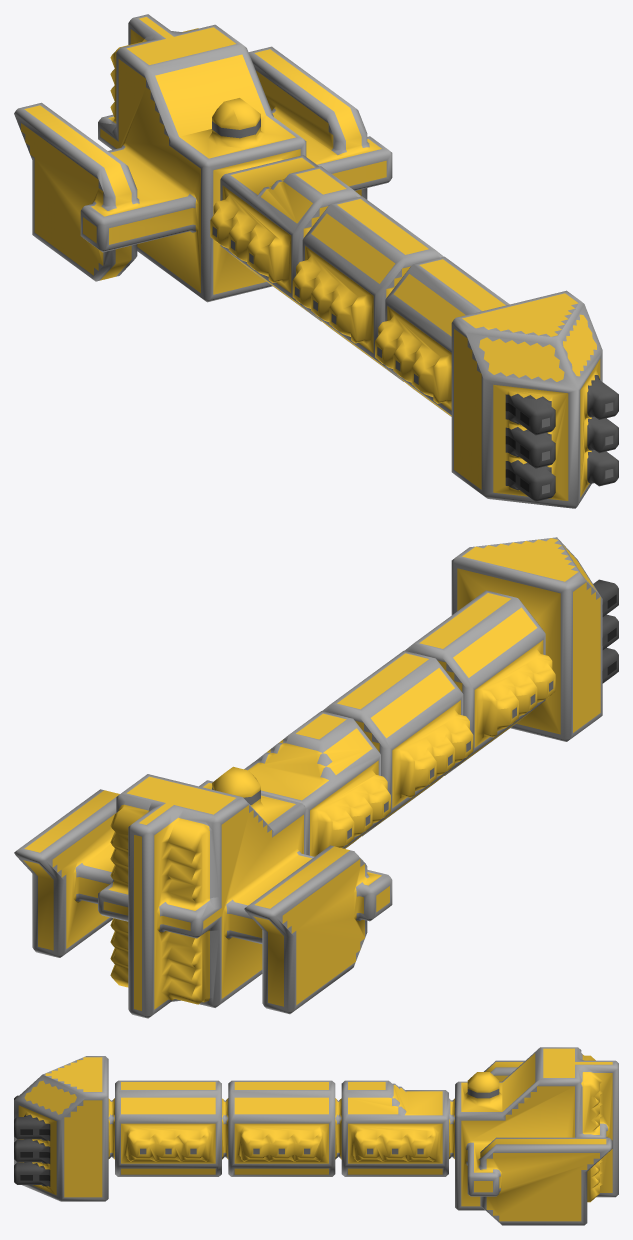
File: mechyrdia-5-mechyrdia-class.obj
3 renders of one model, top to bottom at view 1: azimuth 30°, elevation 25°; view 2: azimuth 150°, elevation 25°; view 3: azimuth 270°, elevation 25°, orthographic. The views are drawn at different scales.
Bounding box in the file's own units: 37 × 23 × 96.
1 material, 1 textured.
